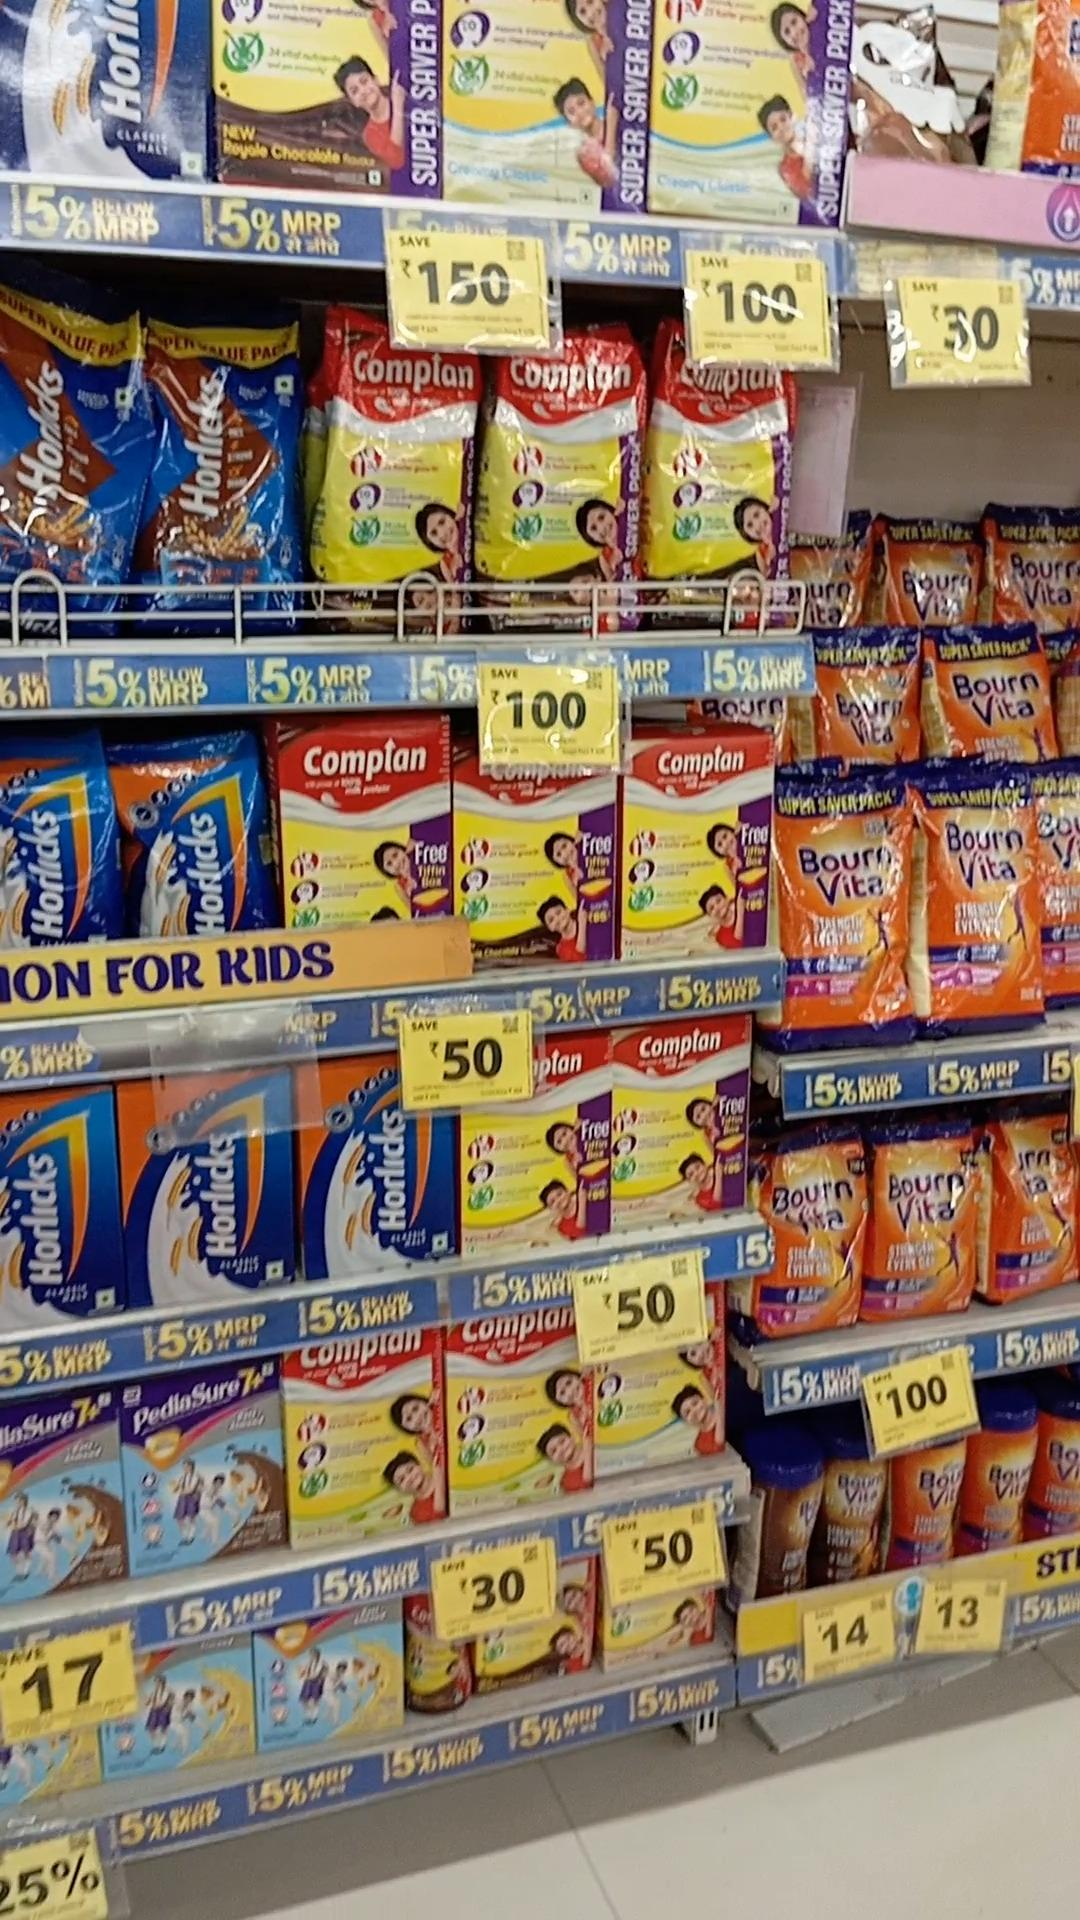BOURN_VITA_1_KG_POUCH: (774, 785, 902, 1047), (922, 770, 1038, 1033), (807, 624, 930, 778), (939, 617, 1052, 762)
BOURN_VITA_500_G_JAR: (978, 1399, 1050, 1555), (907, 1428, 978, 1568)
BOURN_VITA_750_G_POUCH: (866, 1135, 988, 1329), (765, 1129, 861, 1336), (996, 1104, 1080, 1305)
BOURN_VITA_FIVE_STAR_MAGIC_500_G_JAR: (827, 1440, 894, 1584), (764, 1448, 822, 1597)
COMPLAN_CHOCOLATE_1_KG_PACK: (223, 0, 436, 190)
COMPLAN_CHOCOLATE_500_GMS_PACK: (451, 766, 615, 981), (278, 740, 447, 924)
COMPLAN_CREAMY_CLASSIC_500_G_PACK: (595, 1350, 721, 1484)
COMPLAN_KESAR_BADAM_500_GMS_PACK: (617, 746, 765, 963), (463, 1035, 601, 1250), (611, 1021, 744, 1229)
COMPLAN_PISTA_BADAM_500_GMS_PACK: (293, 1335, 435, 1547), (440, 1311, 584, 1516)
COMPLAN_RC_POUCH_700_GMS_12: (332, 324, 484, 641), (659, 305, 798, 642), (502, 331, 642, 642)
HORLICK_CHOCOLATE_750_G_POUCH: (149, 309, 302, 628), (0, 280, 136, 625)
HORLICK_CLASSIC_MALT_500_G_PACK: (138, 1063, 289, 1305), (303, 1056, 450, 1271), (0, 1097, 119, 1333)
HORLICK_CLASSIC_MALT_750_G_POUCH: (140, 724, 278, 940), (3, 736, 103, 955)
PEDIASURE_7_PLUS_CHOCOLATE_400_G_PACK: (135, 1369, 282, 1569), (0, 1385, 125, 1601)
